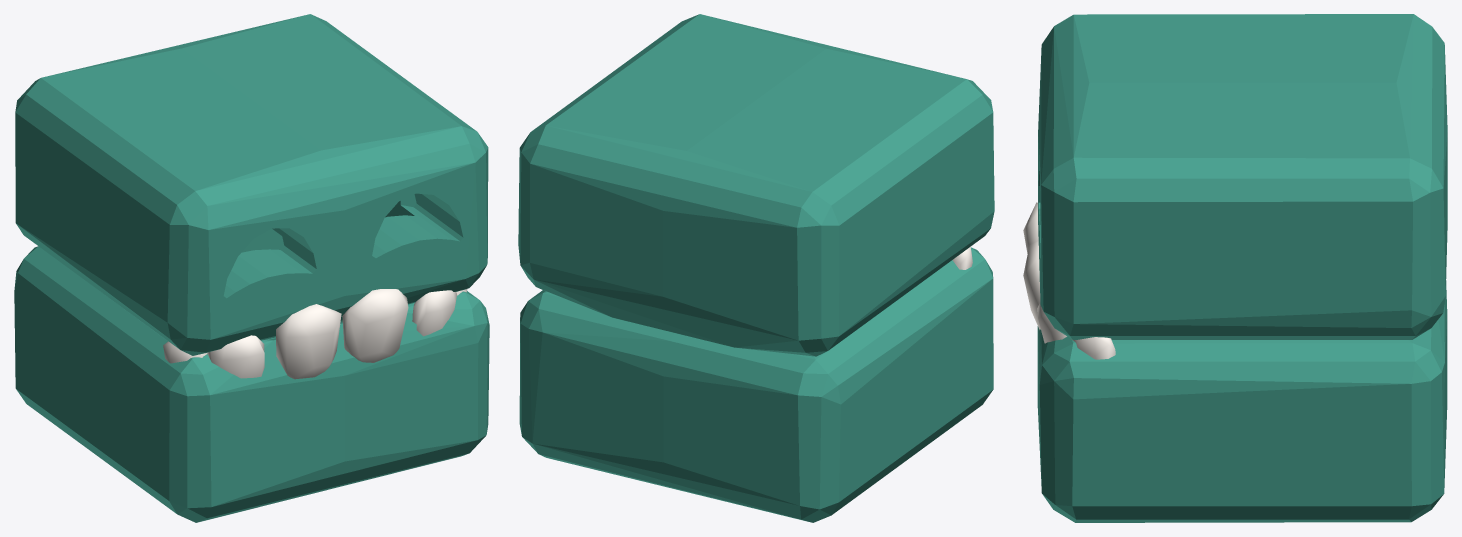
File: Skull.fbx
The picture shows the model from 3 angles, left to right: view 1: azimuth 30°, elevation 25°; view 2: azimuth 150°, elevation 25°; view 3: azimuth 270°, elevation 25°; orthographic projection. The views are drawn at different scales.
Visible parts, largest first — view 1: Top_Skull; view 2: Top_Skull; view 3: Top_Skull.
Part boxes in pixels (<box>): Top_Skull: <box>14,14,489,522</box>; Top_Skull: <box>518,14,994,522</box>; Top_Skull: <box>1023,14,1447,522</box>.
Size of the model in its own units: 100 by 100 by 104.
